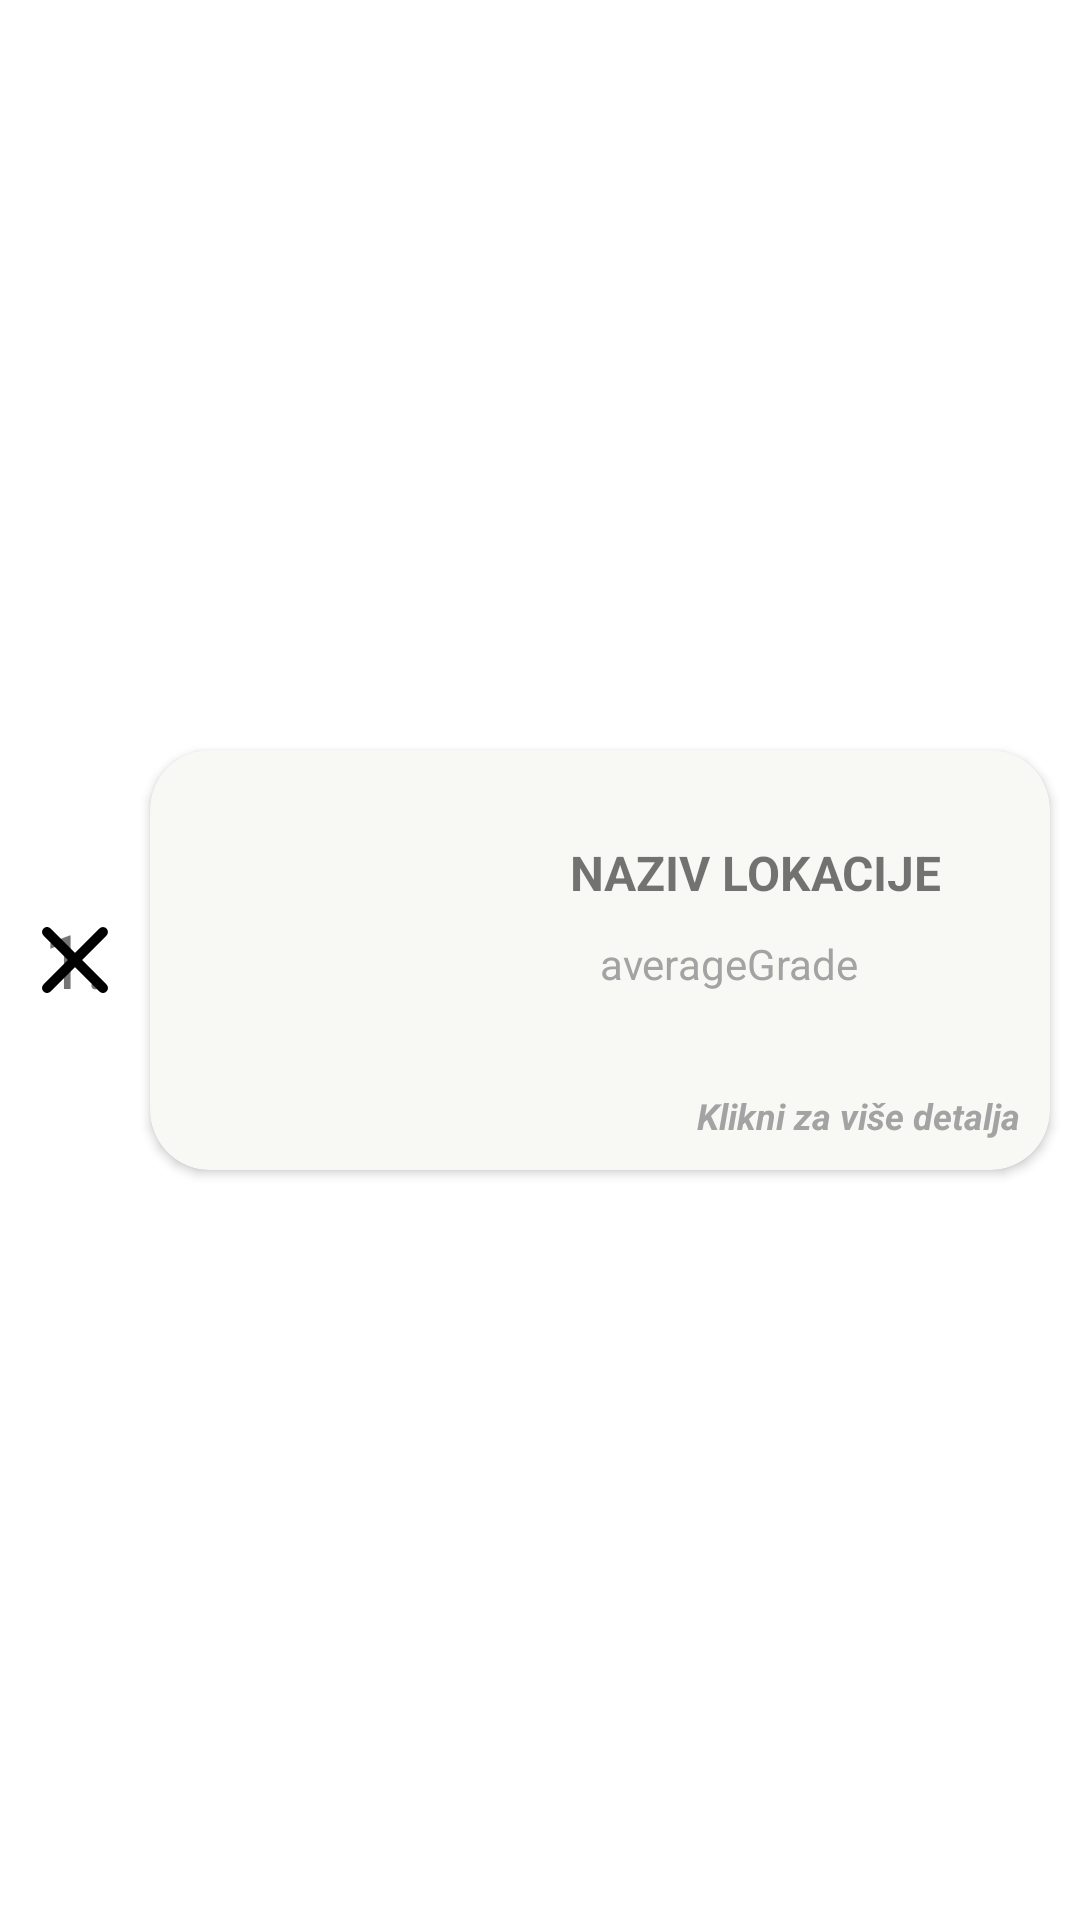

Where to tap for icons on this 1080×1920 app screen, as (x=x, y=y):
close: (x=75, y=960)
